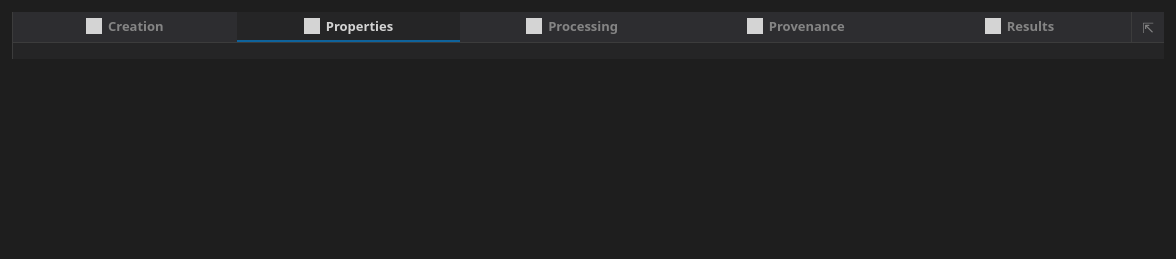
Scenario: SidePanel processing editor › keeps saved parameters visible but blocks a missing dependency
Click the tab "Processing".
click(572, 27)  # box x1=460 y1=12 x2=684 y2=42
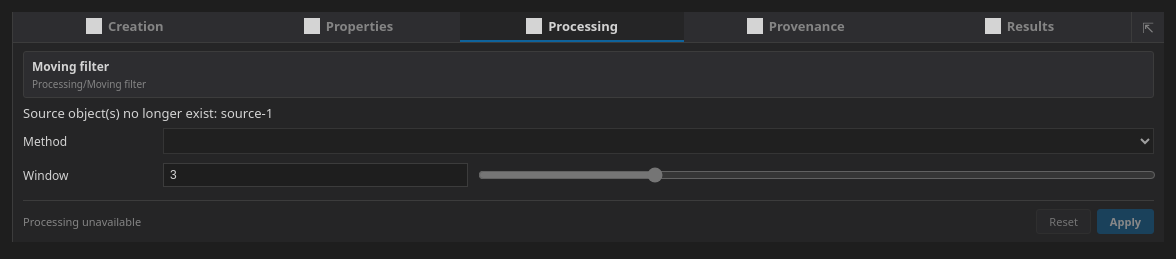
expect the text "Source object(s) no longer exist: source-1" is shown: met, box x1=23 y1=104 x2=273 y2=122
expect the dropdown is disabled: met, box x1=163 y1=128 x2=1154 y2=154
expect the button "Apply" is disabled: met, box x1=1097 y1=209 x2=1154 y2=234
